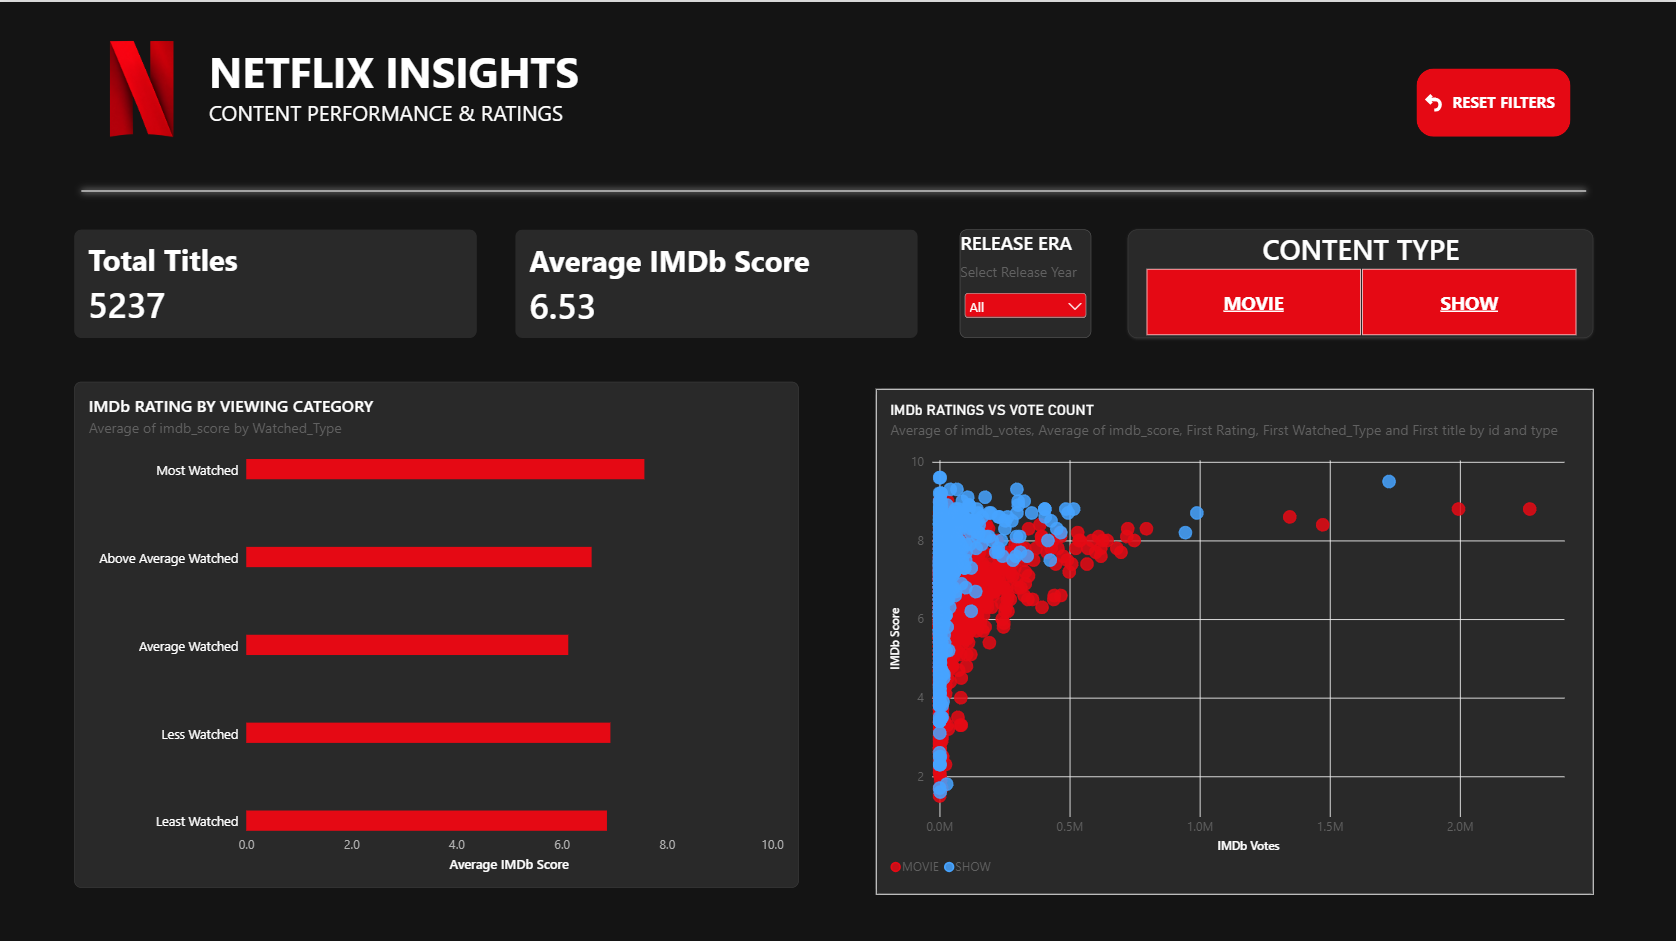

The dashboard page shown, as its layout file describes it:
{"tool":"powerbi","page":{"name":"Page 1","canvas":[1920,1080],"ordinal":0},"visuals":[{"type":"slicer","title":"CONTENT TYPE","fields":{"Values":["Netflix TV Shows and Movies.type"]},"box":[1290,260,532,124],"z":0},{"type":"clusteredBarChart","title":"IMDb RATING BY VIEWING CATEGORY","fields":{"Category":["Netflix TV Shows and Movies.Watched_Type"],"Y":["Avg(Netflix TV Shows and Movies.imdb_score)"]},"box":[86,434,828,578],"z":1000},{"type":"scatterChart","title":"IMDb RATINGS VS VOTE COUNT","fields":{"Category":["Netflix TV Shows and Movies.id"],"Series":["Netflix TV Shows and Movies.type"],"X":["Avg(Netflix TV Shows and Movies.imdb_votes)"],"Y":["Avg(Netflix TV Shows and Movies.imdb_score)"]},"box":[1002,442,820,578],"z":2000},{"type":"actionButton","box":[1620,76,176,78],"z":3000},{"type":"textbox","box":[240,46,454,108],"z":4000},{"type":"shape","box":[86,196,1736,40],"z":5000},{"type":"image","box":[86,24,154,150],"z":6000},{"type":"slicer","title":"RELEASE ERA","fields":{"Values":["Netflix TV Shows and Movies.Release Era"]},"box":[1098,260,150,124],"z":7000},{"type":"cardVisual","fields":{"Data":["Netflix TV Shows and Movies.Total Titles"]},"box":[86,260,460,124],"z":8000},{"type":"cardVisual","fields":{"Data":["Netflix TV Shows and Movies.Average IMDb Score"]},"box":[590,260,460,124],"z":9000}]}

Visuals, with their boxes in screenshot pixels (x1, y1, x2, y2), scaled from the page's 1920x1080 canvas onto the 1676x941 screenshot:
"CONTENT TYPE" slicer: {"left": 1126, "top": 227, "right": 1590, "bottom": 335}
"IMDb RATING BY VIEWING CATEGORY" clusteredBarChart: {"left": 75, "top": 378, "right": 798, "bottom": 882}
"IMDb RATINGS VS VOTE COUNT" scatterChart: {"left": 875, "top": 385, "right": 1590, "bottom": 889}
actionButton: {"left": 1414, "top": 66, "right": 1568, "bottom": 134}
textbox: {"left": 210, "top": 40, "right": 606, "bottom": 134}
shape: {"left": 75, "top": 171, "right": 1590, "bottom": 206}
image: {"left": 75, "top": 21, "right": 210, "bottom": 152}
"RELEASE ERA" slicer: {"left": 958, "top": 227, "right": 1089, "bottom": 335}
cardVisual - Netflix TV Shows and Movies.Total Titles: {"left": 75, "top": 227, "right": 477, "bottom": 335}
cardVisual - Netflix TV Shows and Movies.Average IMDb Score: {"left": 515, "top": 227, "right": 917, "bottom": 335}
